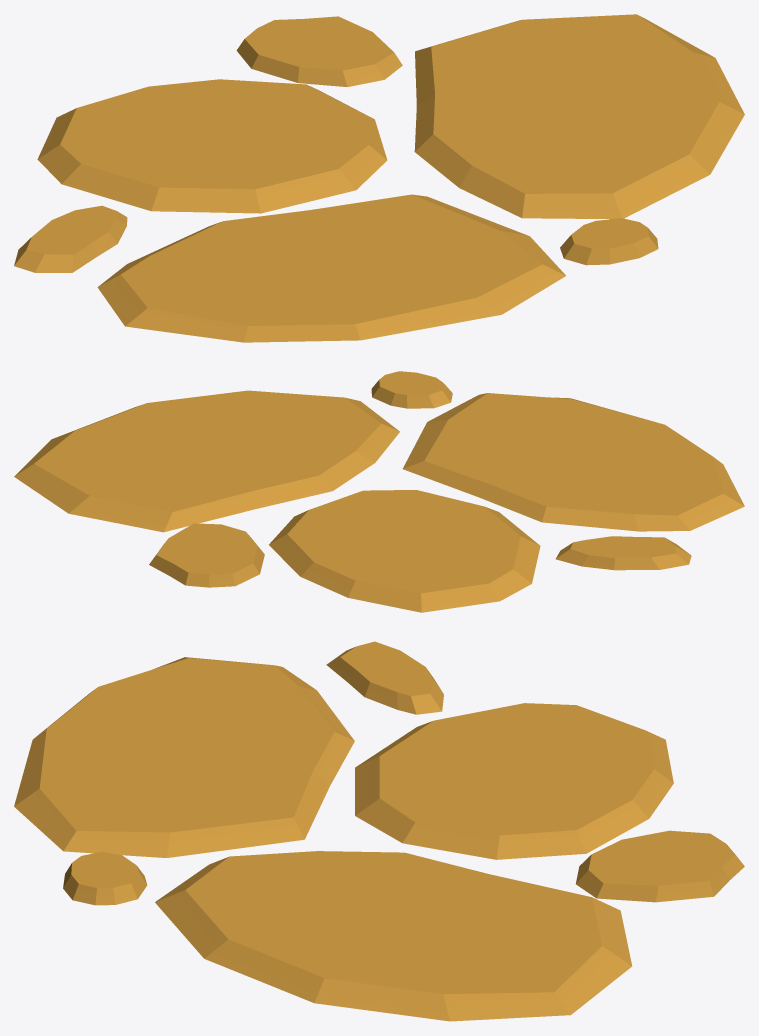
File: Puddle_B.fbx
3 views of the same model, one above another, from view 1: azimuth 30°, elevation 25°; view 2: azimuth 150°, elevation 25°; view 3: azimuth 270°, elevation 25° (orthographic). The views are drawn at different scales.
Parts seen in each view (by area): view 1: Puddle_B; view 2: Puddle_B; view 3: Puddle_B.
Part boxes in pixels (x1,y1,x2,y2): Puddle_B: (14,14,744,342); Puddle_B: (14,371,744,612); Puddle_B: (14,641,744,1021).
Bounding box in the file's own units: 86 × 1.56 × 70.79.
